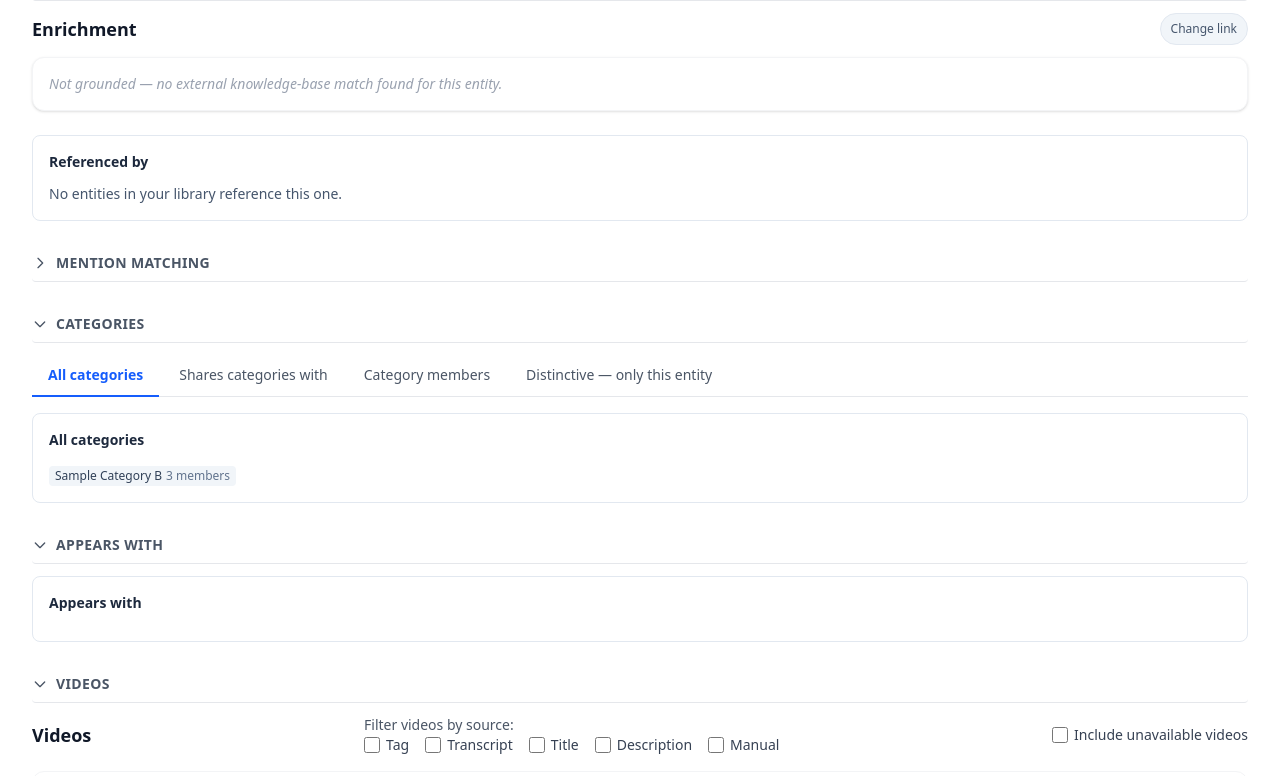
it: EntityDetailPage › Categories group framing (Feature 089, SC-004) › distinctive panel errors inside its tab without affecting the others
This screenshot has width=1280, height=776.
(page scrolled)
Click the tab with test id "category-tab-distinctive". click: (619, 376)
box: [510, 355, 728, 397]
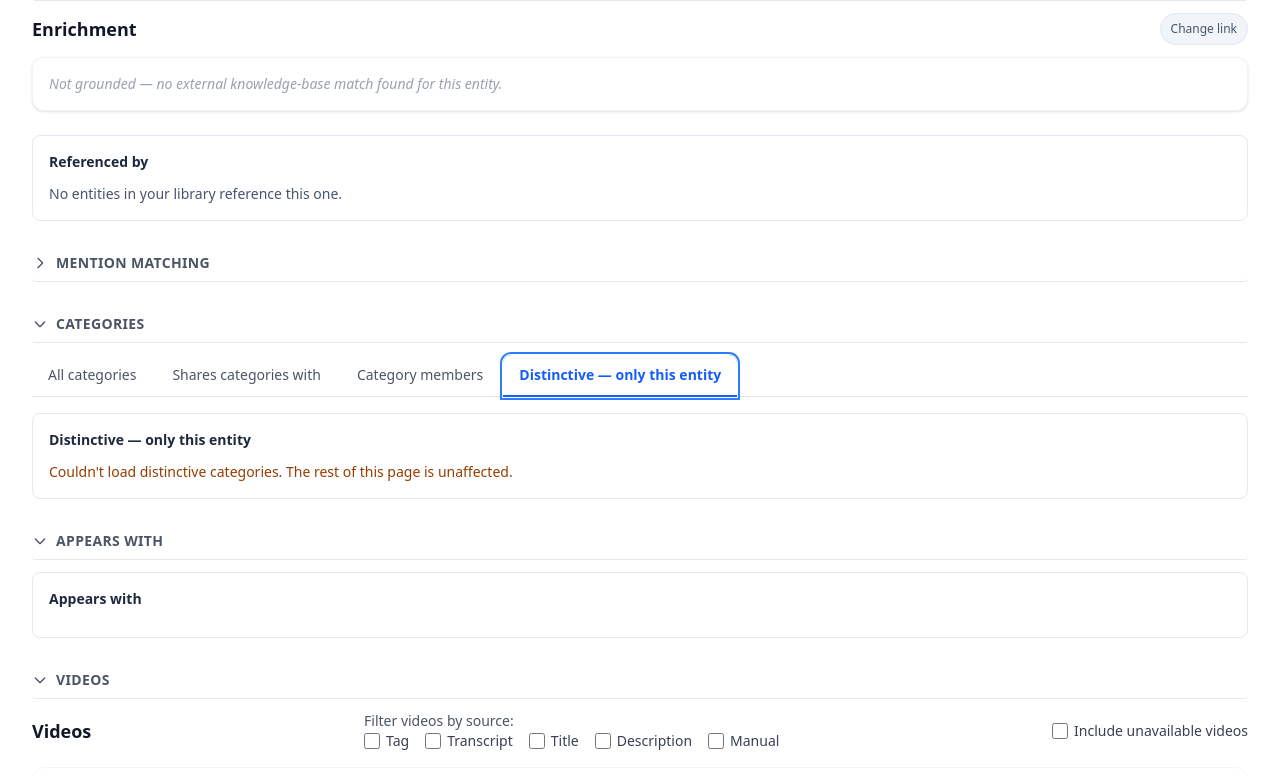
Click the tab with test id "category-tab-shared". click: (247, 376)
box: [156, 355, 337, 397]
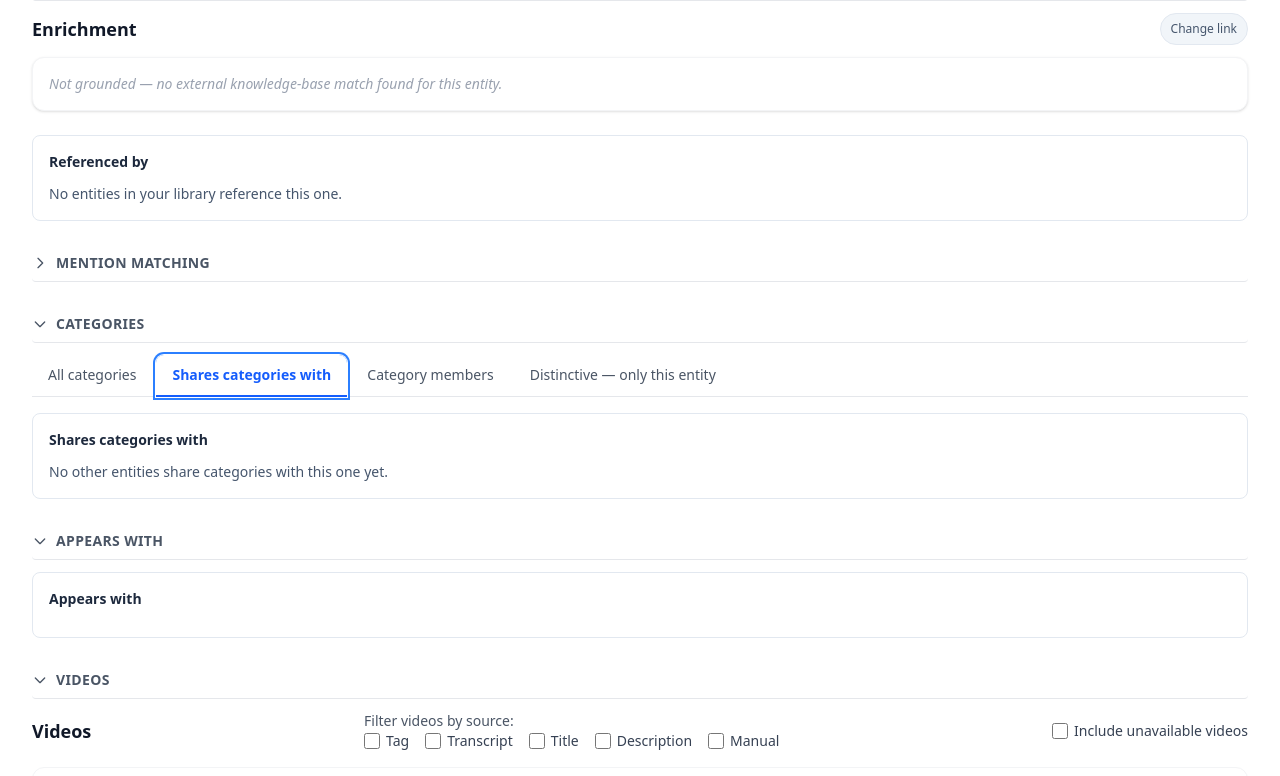
Expected: the element with test id "shared-categories-panel" is shown, [32, 413, 1248, 499]
